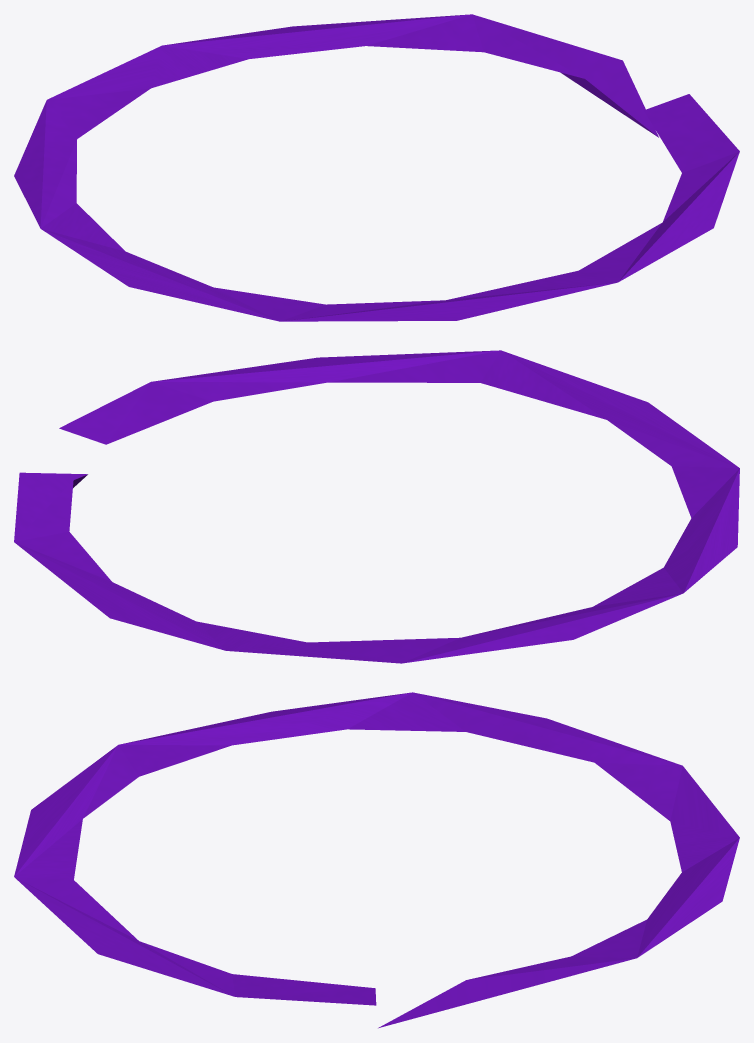
File: SM_shadow_surge_ribbon_LOD2.fbx
3 views of the same model, one above another, from view 1: azimuth 30°, elevation 25°; view 2: azimuth 150°, elevation 25°; view 3: azimuth 270°, elevation 25° (orthographic). The views are drawn at different scales.
Visible parts, largest first — view 1: SM_shadow_surge_ribbon_LOD2; view 2: SM_shadow_surge_ribbon_LOD2; view 3: SM_shadow_surge_ribbon_LOD2.
Boxes of the visible parts, x1,y1,x2,y2 form: SM_shadow_surge_ribbon_LOD2: [14, 14, 739, 321]; SM_shadow_surge_ribbon_LOD2: [14, 350, 739, 663]; SM_shadow_surge_ribbon_LOD2: [14, 692, 739, 1028].
Size of the model in its own units: 2.14 by 2.14 by 0.1395.
